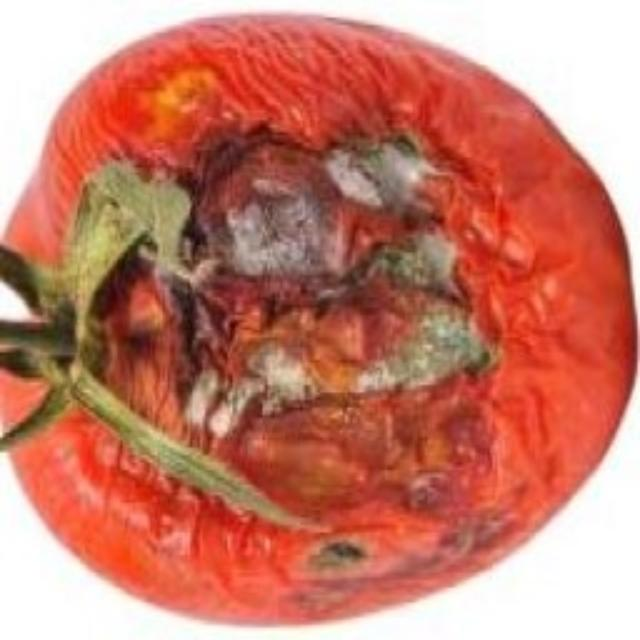defect: (0, 11, 640, 625)
